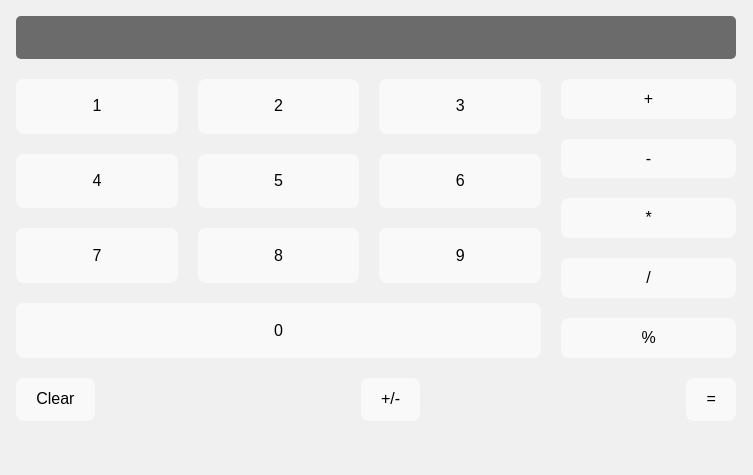
Scenario: Calculator component › handles invalid operations gracefully
Click the button "1": (97, 106) [16,79,178,134]
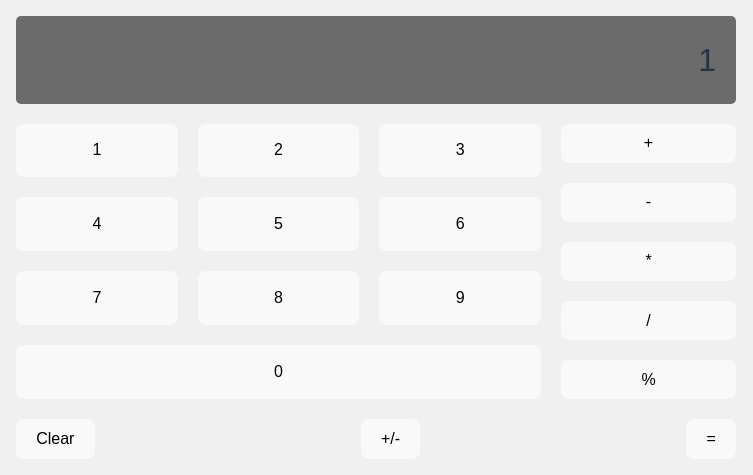
Click the button "+": (648, 143) [561,124,736,163]
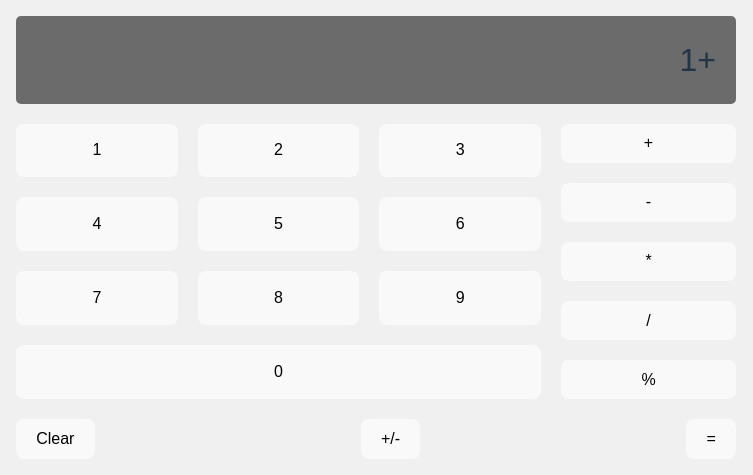
Click the button "+": (648, 143) [561,124,736,163]
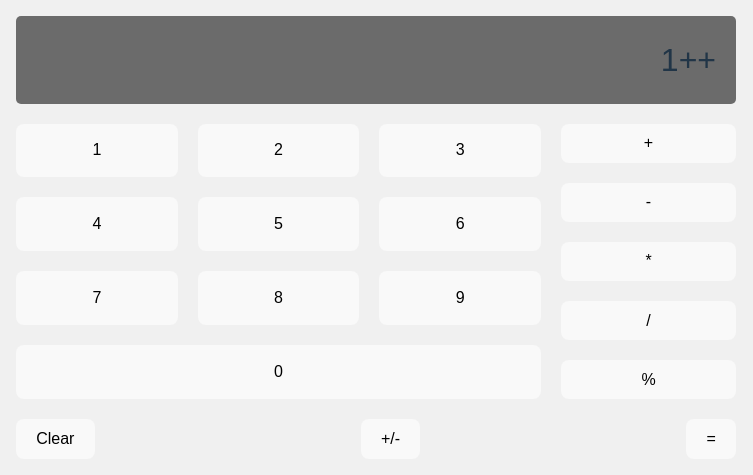
Click the button "=": (711, 439) [686,419,736,459]
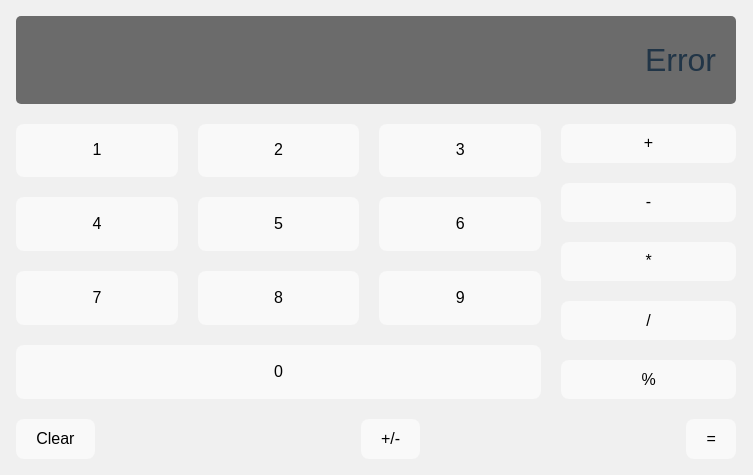
Now the text with test id "result" reads "Error", box [645,42,716,78]
